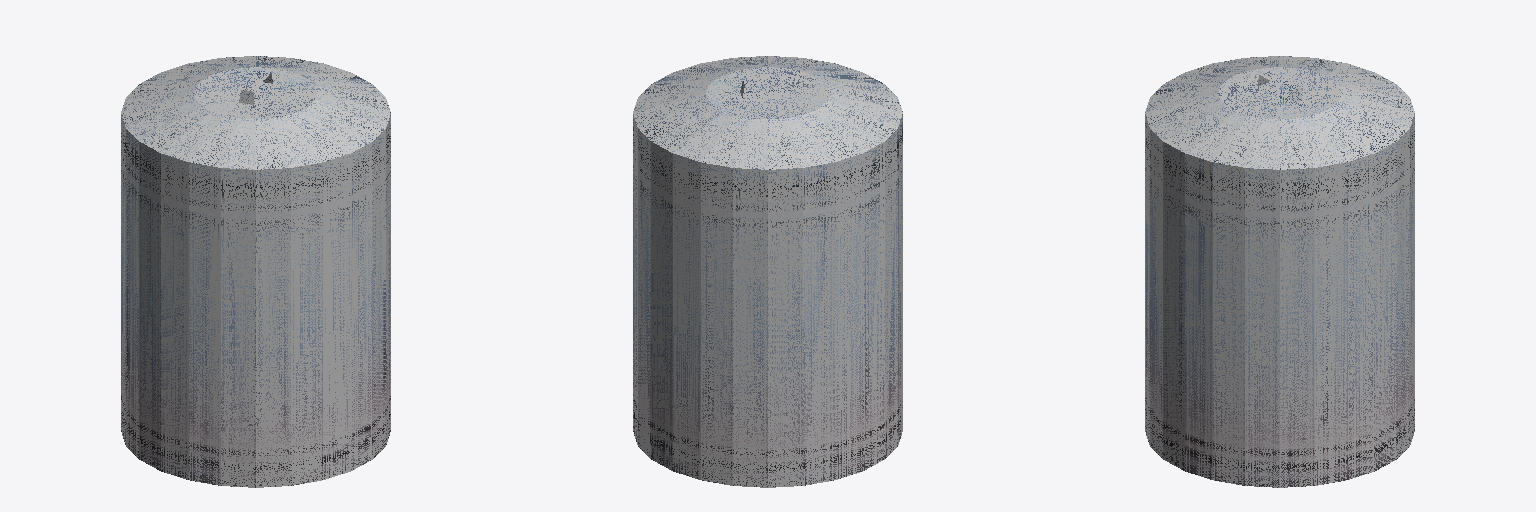
3 views of the same model, side by side, from view 1: azimuth 30°, elevation 25°; view 2: azimuth 150°, elevation 25°; view 3: azimuth 270°, elevation 25° (orthographic).
Parts seen in each view (by area): view 1: mesh1_mesh1-geometry; view 2: mesh1_mesh1-geometry; view 3: mesh1_mesh1-geometry.
Boxes of the visible parts, x1=… form: mesh1_mesh1-geometry: x1=121, y1=56, x2=390, y2=487; mesh1_mesh1-geometry: x1=633, y1=56, x2=902, y2=487; mesh1_mesh1-geometry: x1=1145, y1=56, x2=1414, y2=487.
Bounding box in the file's own units: 0.4972 × 0.711 × 0.4972.
Materials: 6 (5 with a texture image).